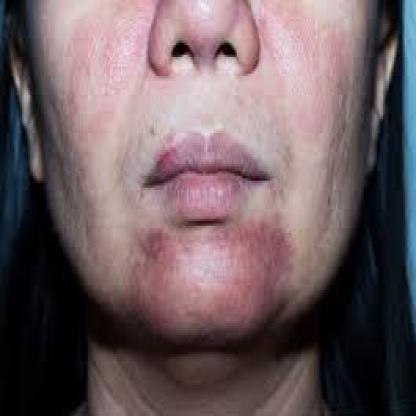darkspot: (330, 92, 356, 199)
wrinkle: (55, 17, 137, 242)
